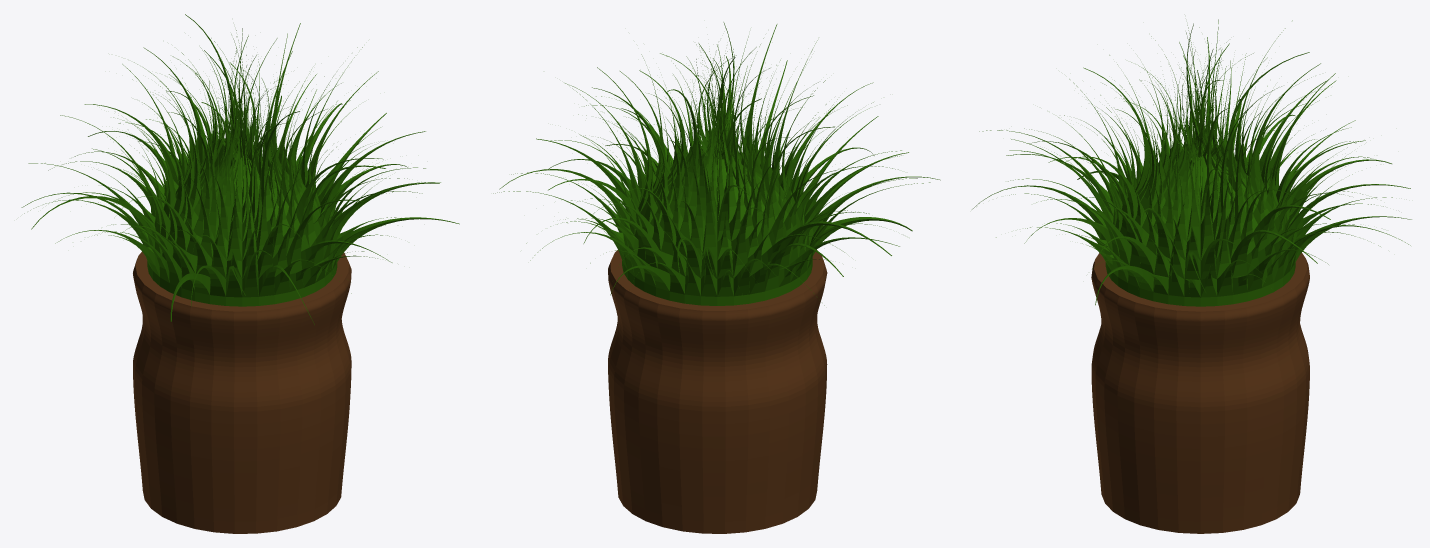
Rendered from plant.fbx.
3 renders of one model, left to right at view 1: azimuth 30°, elevation 25°; view 2: azimuth 150°, elevation 25°; view 3: azimuth 270°, elevation 25°, orthographic.
Visible parts, largest first — view 1: pot, plant, Cap_1; view 2: pot, plant, Cap_1; view 3: pot, plant, Cap_1.
Boxes of the visible parts, <box> form: pot: <box>133,258,351,533</box>; plant: <box>21,14,459,324</box>; Cap_1: <box>135,252,348,311</box>; pot: <box>608,259,827,533</box>; plant: <box>493,22,940,305</box>; Cap_1: <box>610,249,824,310</box>; pot: <box>1091,259,1309,533</box>; plant: <box>972,19,1411,306</box>; Cap_1: <box>1094,252,1307,311</box>.
Size of the model in its own units: 273 by 311 by 269.
